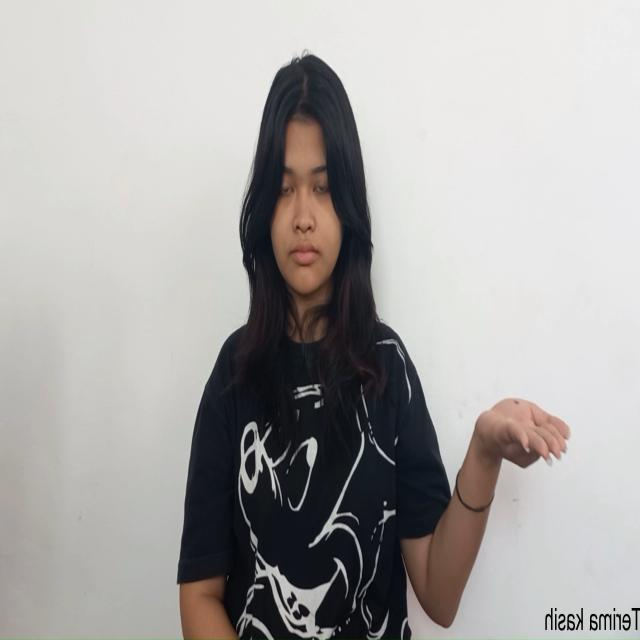Terima kasih -BISINDO-: (468, 387, 574, 474)
